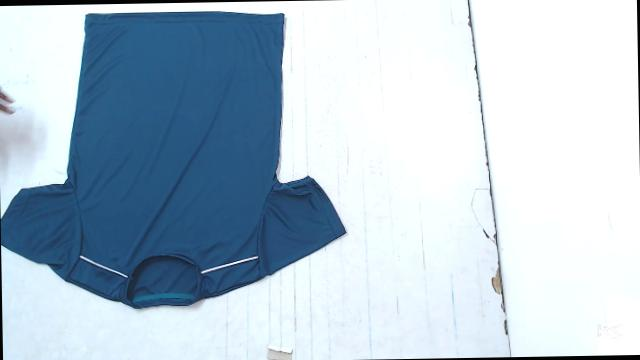new-garment: (1, 11, 345, 308)
